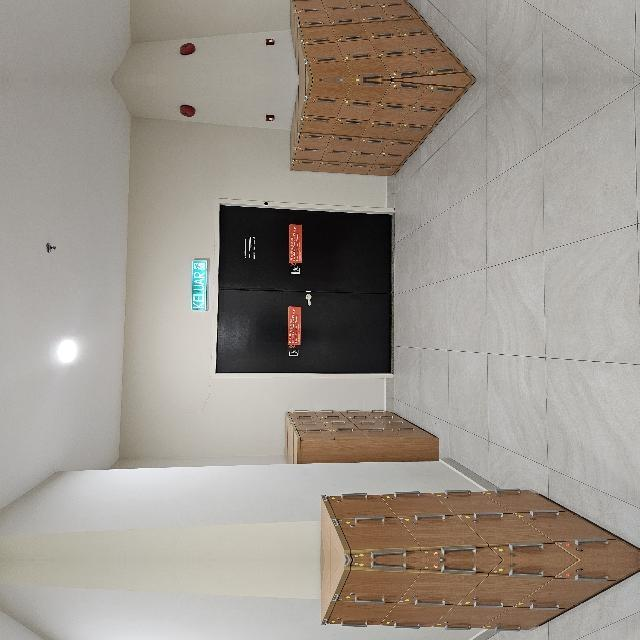door: (185, 294, 357, 474)
obstacle: (382, 356, 480, 544), (0, 403, 76, 640), (0, 433, 76, 640), (91, 353, 152, 522), (382, 576, 480, 640), (91, 597, 152, 640)
